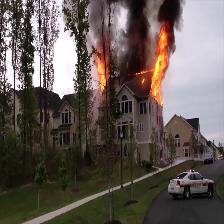fire: (151, 22, 166, 105), (95, 55, 110, 90)
smoke: (122, 3, 146, 78), (89, 0, 115, 53), (160, 1, 184, 19)
